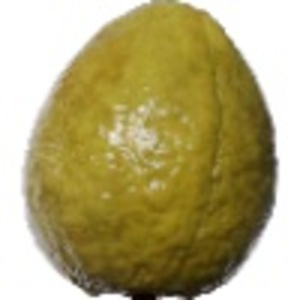goiaba: (16, 2, 281, 292)
